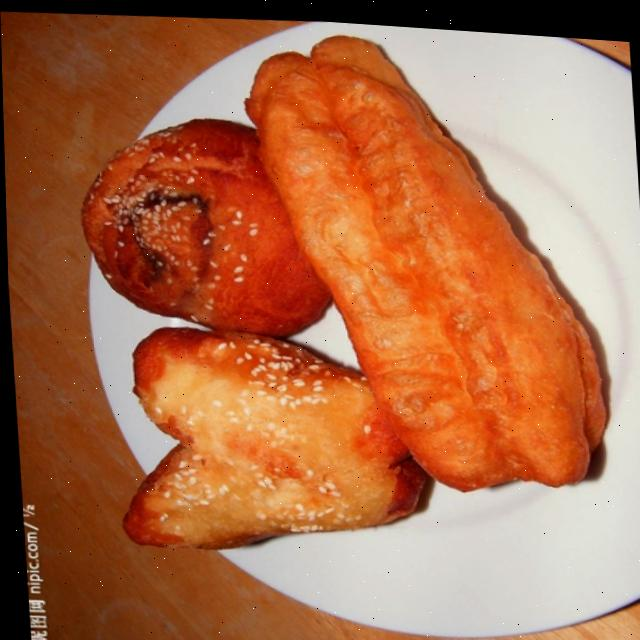炸货点心: (56, 10, 605, 612)
